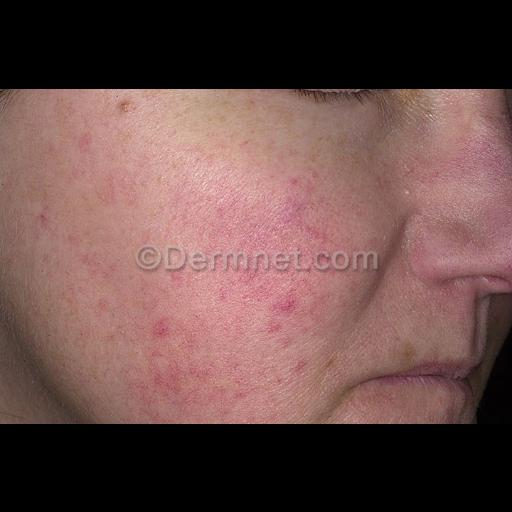Skin_Lesion: (246, 180, 342, 254), (236, 354, 308, 398), (136, 370, 206, 412), (270, 280, 308, 346), (146, 318, 194, 362), (114, 95, 142, 119)
